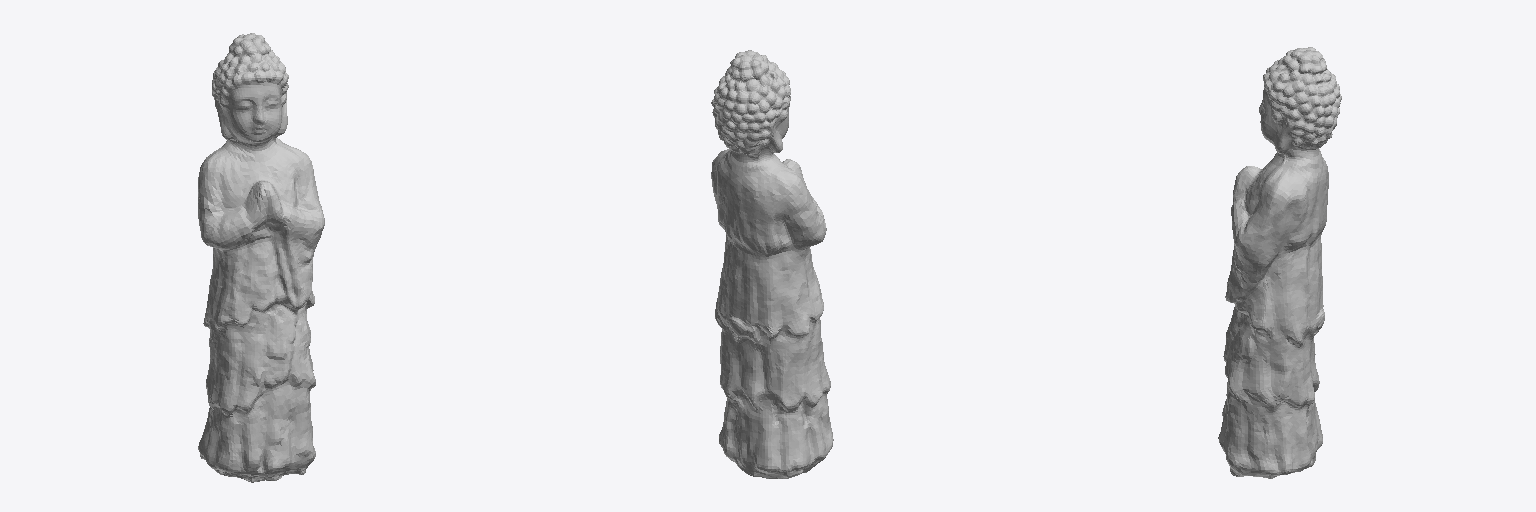
3 views of the same model, side by side, from view 1: azimuth 30°, elevation 25°; view 2: azimuth 150°, elevation 25°; view 3: azimuth 270°, elevation 25° (orthographic).
Parts seen in each view (by area): view 1: stytta; view 2: stytta; view 3: stytta.
Boxes of the visible parts, x1=… form: stytta: x1=198, y1=33, x2=324, y2=482; stytta: x1=711, y1=50, x2=833, y2=478; stytta: x1=1218, y1=47, x2=1341, y2=478.
Bounding box in the file's own units: 3.5 × 12.74 × 3.41.